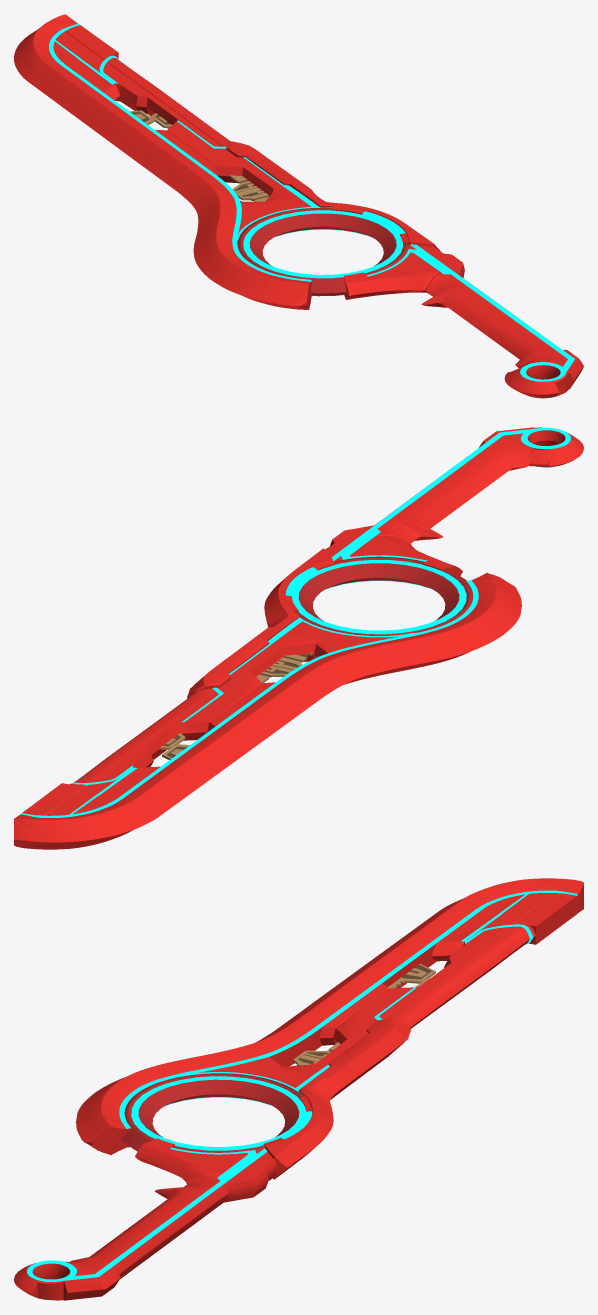
The model's file is xenoblade_chronicles__monado_free.glb.
3 views of the same model, one above another, from view 1: azimuth 30°, elevation 25°; view 2: azimuth 150°, elevation 25°; view 3: azimuth 330°, elevation 25° (orthographic). The views are drawn at different scales.
Parts seen in each view (by area): view 1: Object_8, Object_9, Object_10, Object_4, Object_6; view 2: Object_8, Object_9, Object_10, Object_4, Object_6; view 3: Object_8, Object_9, Object_10, Object_4, Object_6.
Boxes of the visible parts, left/top/right/bottom form: Object_8: left=14, top=14, right=583, bottom=398; Object_9: left=103, top=54, right=439, bottom=250; Object_10: left=49, top=23, right=574, bottom=398; Object_4: left=237, top=208, right=409, bottom=296; Object_6: left=130, top=110, right=268, bottom=201; Object_8: left=14, top=427, right=583, bottom=849; Object_9: left=70, top=548, right=334, bottom=784; Object_10: left=21, top=427, right=570, bottom=817; Object_4: left=295, top=557, right=473, bottom=635; Object_6: left=160, top=653, right=312, bottom=759; Object_8: left=14, top=878, right=583, bottom=1300; Object_9: left=263, top=924, right=535, bottom=1179; Object_10: left=27, top=890, right=577, bottom=1300; Object_4: left=121, top=1074, right=302, bottom=1152; Object_6: left=293, top=963, right=435, bottom=1065.
Bounding box in the file's own units: 1.39 × 0.1761 × 6.
